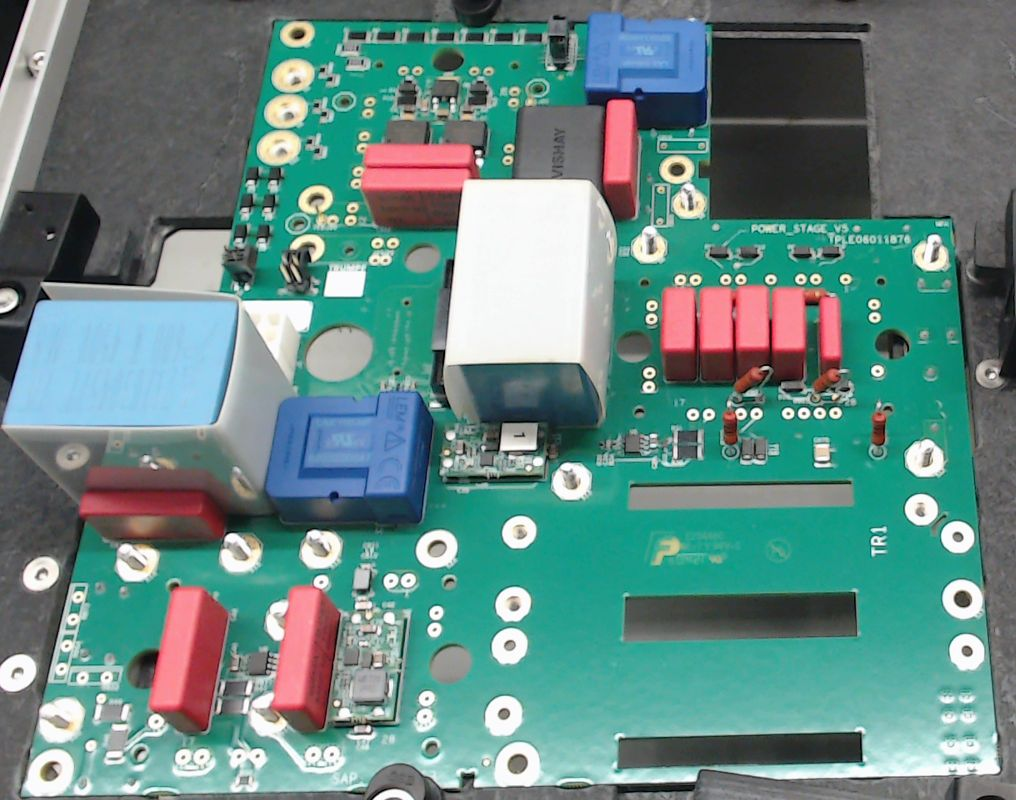comp1: (266, 387, 434, 530), (584, 14, 712, 130)
comp2: (148, 589, 233, 734), (272, 585, 342, 728), (77, 489, 228, 545), (358, 167, 476, 226), (603, 95, 641, 218), (734, 283, 770, 390), (659, 285, 697, 380), (698, 285, 734, 383), (772, 283, 805, 379), (362, 142, 475, 168), (815, 293, 843, 364)
comp3: (513, 104, 606, 182)
comp4: (1, 279, 294, 516), (443, 176, 618, 426)
